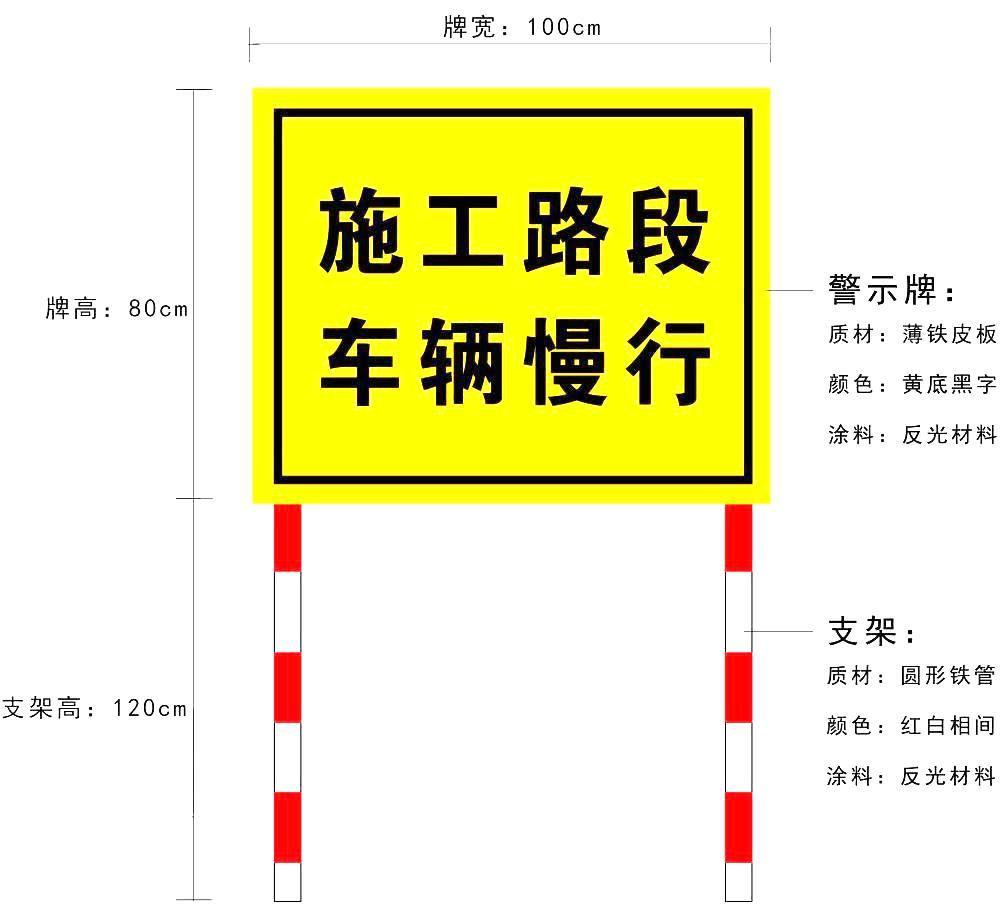sign: (263, 94, 765, 490)
